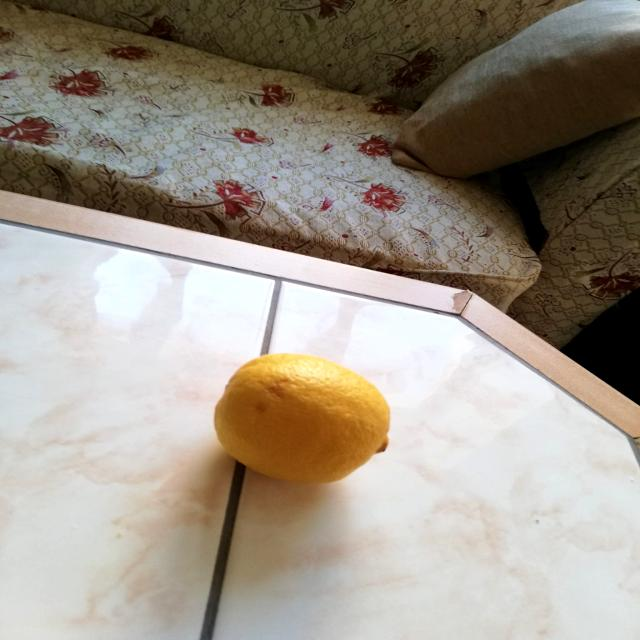lemon: (208, 349, 396, 490)
